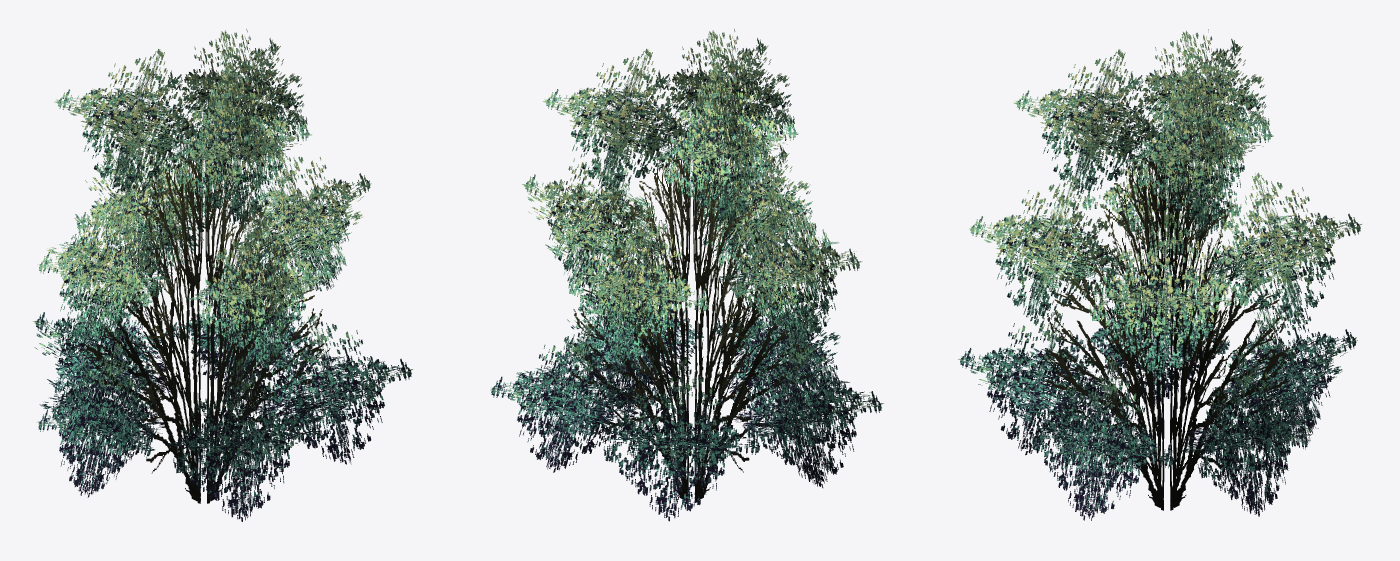
File: schietwilg_1.fbx
The picture shows the model from 3 angles, left to right: view 1: azimuth 30°, elevation 25°; view 2: azimuth 150°, elevation 25°; view 3: azimuth 270°, elevation 25°; orthographic projection.
Parts seen in each view (by area): view 1: schietwilg_1; view 2: schietwilg_1; view 3: schietwilg_1.
Part boxes in pixels (x1,y1,x2,y2): schietwilg_1: (33, 29, 412, 521); schietwilg_1: (490, 29, 883, 521); schietwilg_1: (958, 29, 1361, 520).
Bounding box in the file's own units: 377 × 442 × 374.
